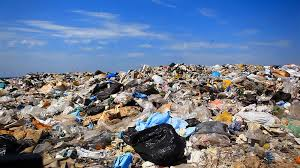garbage: (4, 77, 298, 168), (94, 71, 300, 167), (147, 65, 300, 166)
